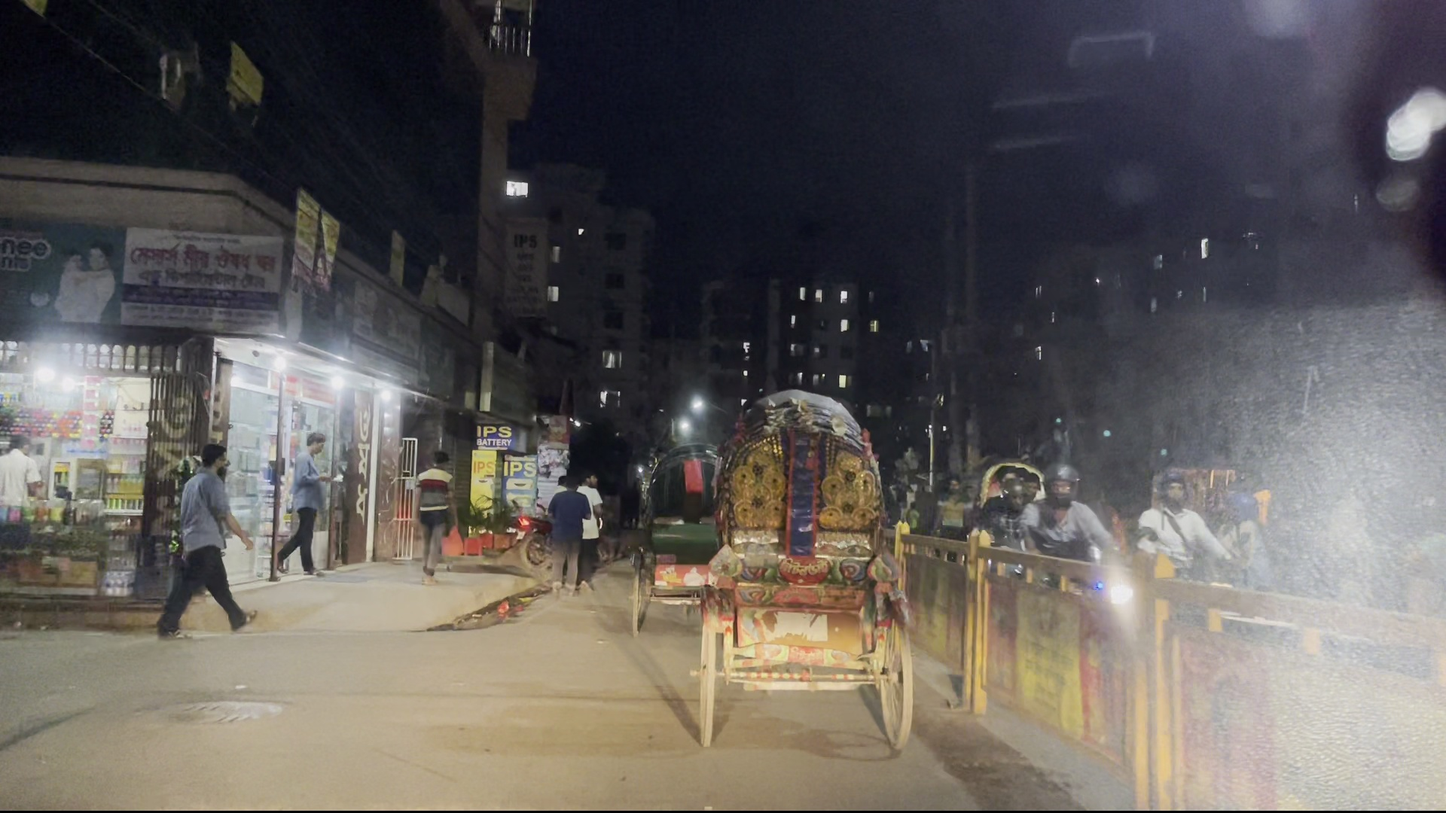motorbike: (511, 472, 606, 574)
person: (150, 442, 260, 639), (271, 430, 332, 582), (410, 449, 457, 588), (545, 470, 587, 598), (575, 470, 606, 598)
